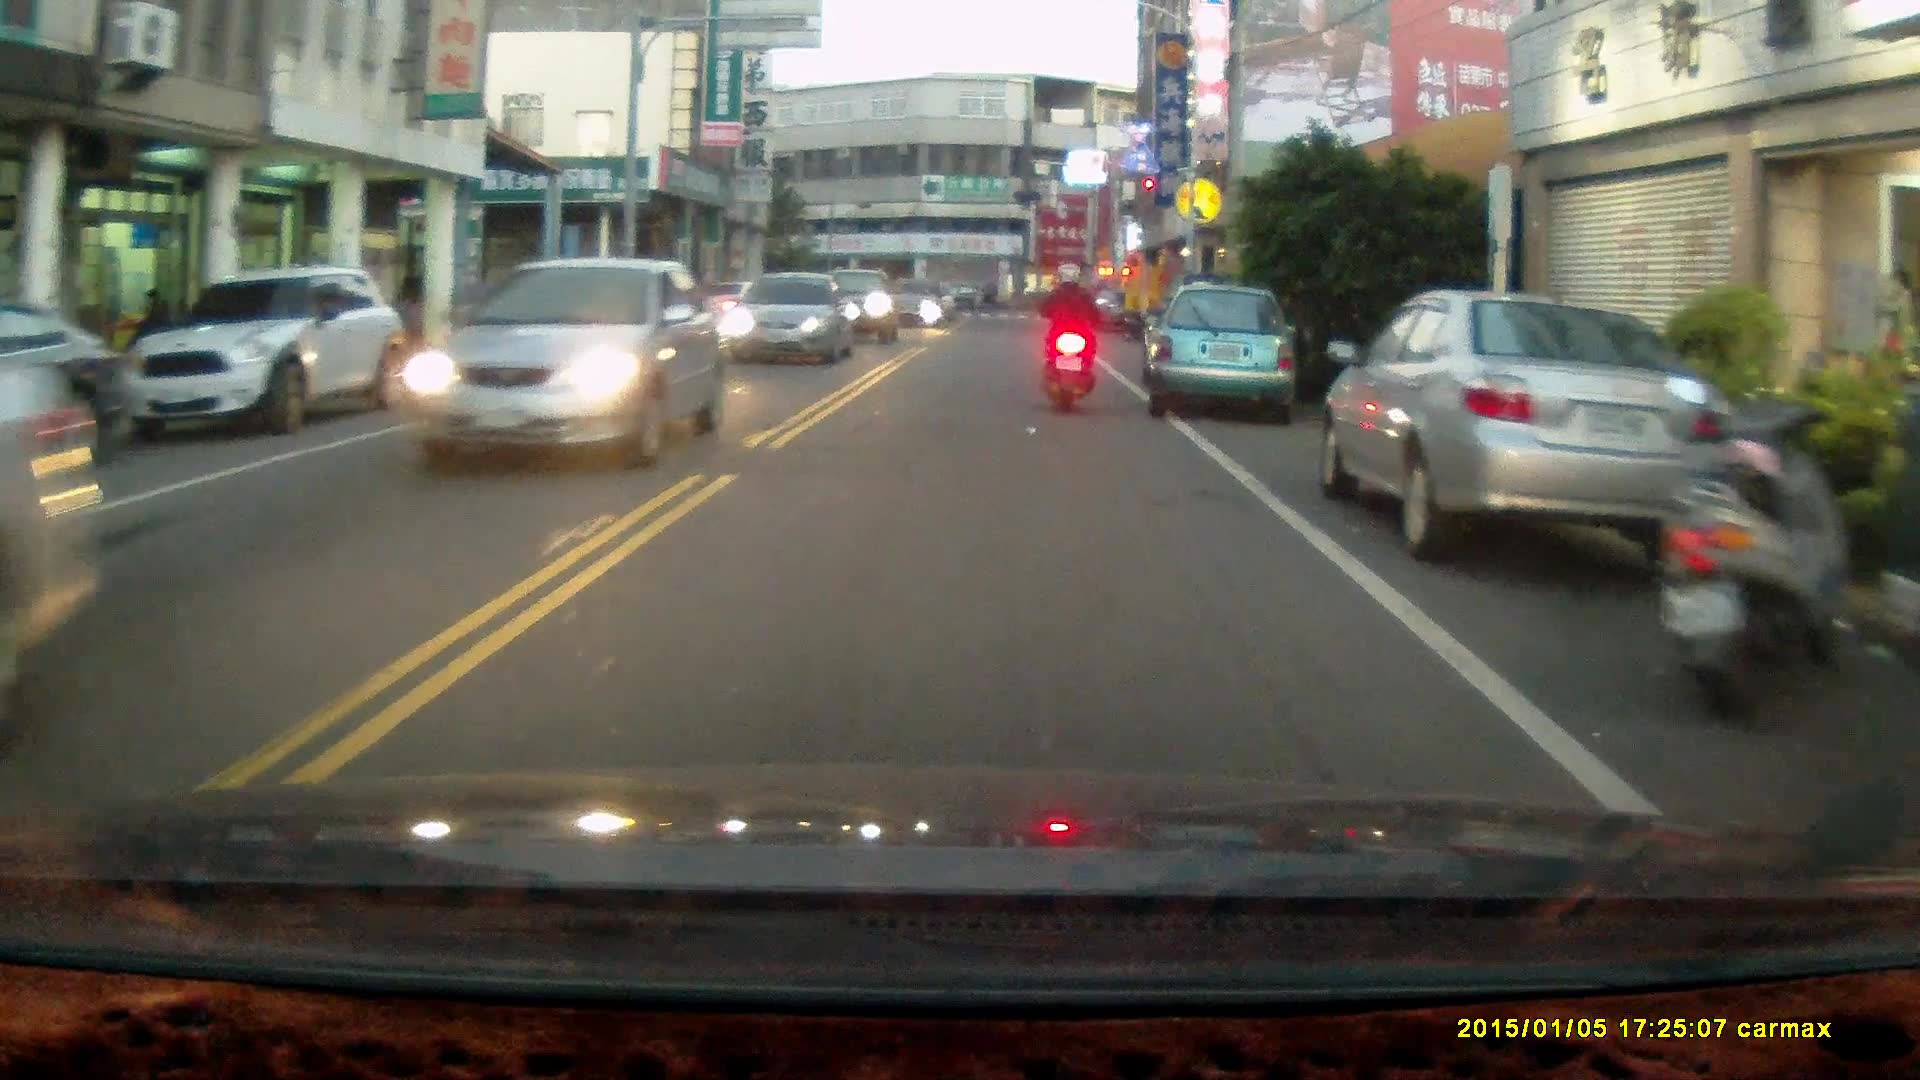pedestrian: (133, 286, 170, 358)
rider: (1035, 258, 1107, 416)
vehicle: (1318, 293, 1782, 564), (396, 261, 734, 466), (108, 263, 412, 447), (1, 360, 112, 696), (1147, 281, 1303, 426), (718, 270, 851, 367)
